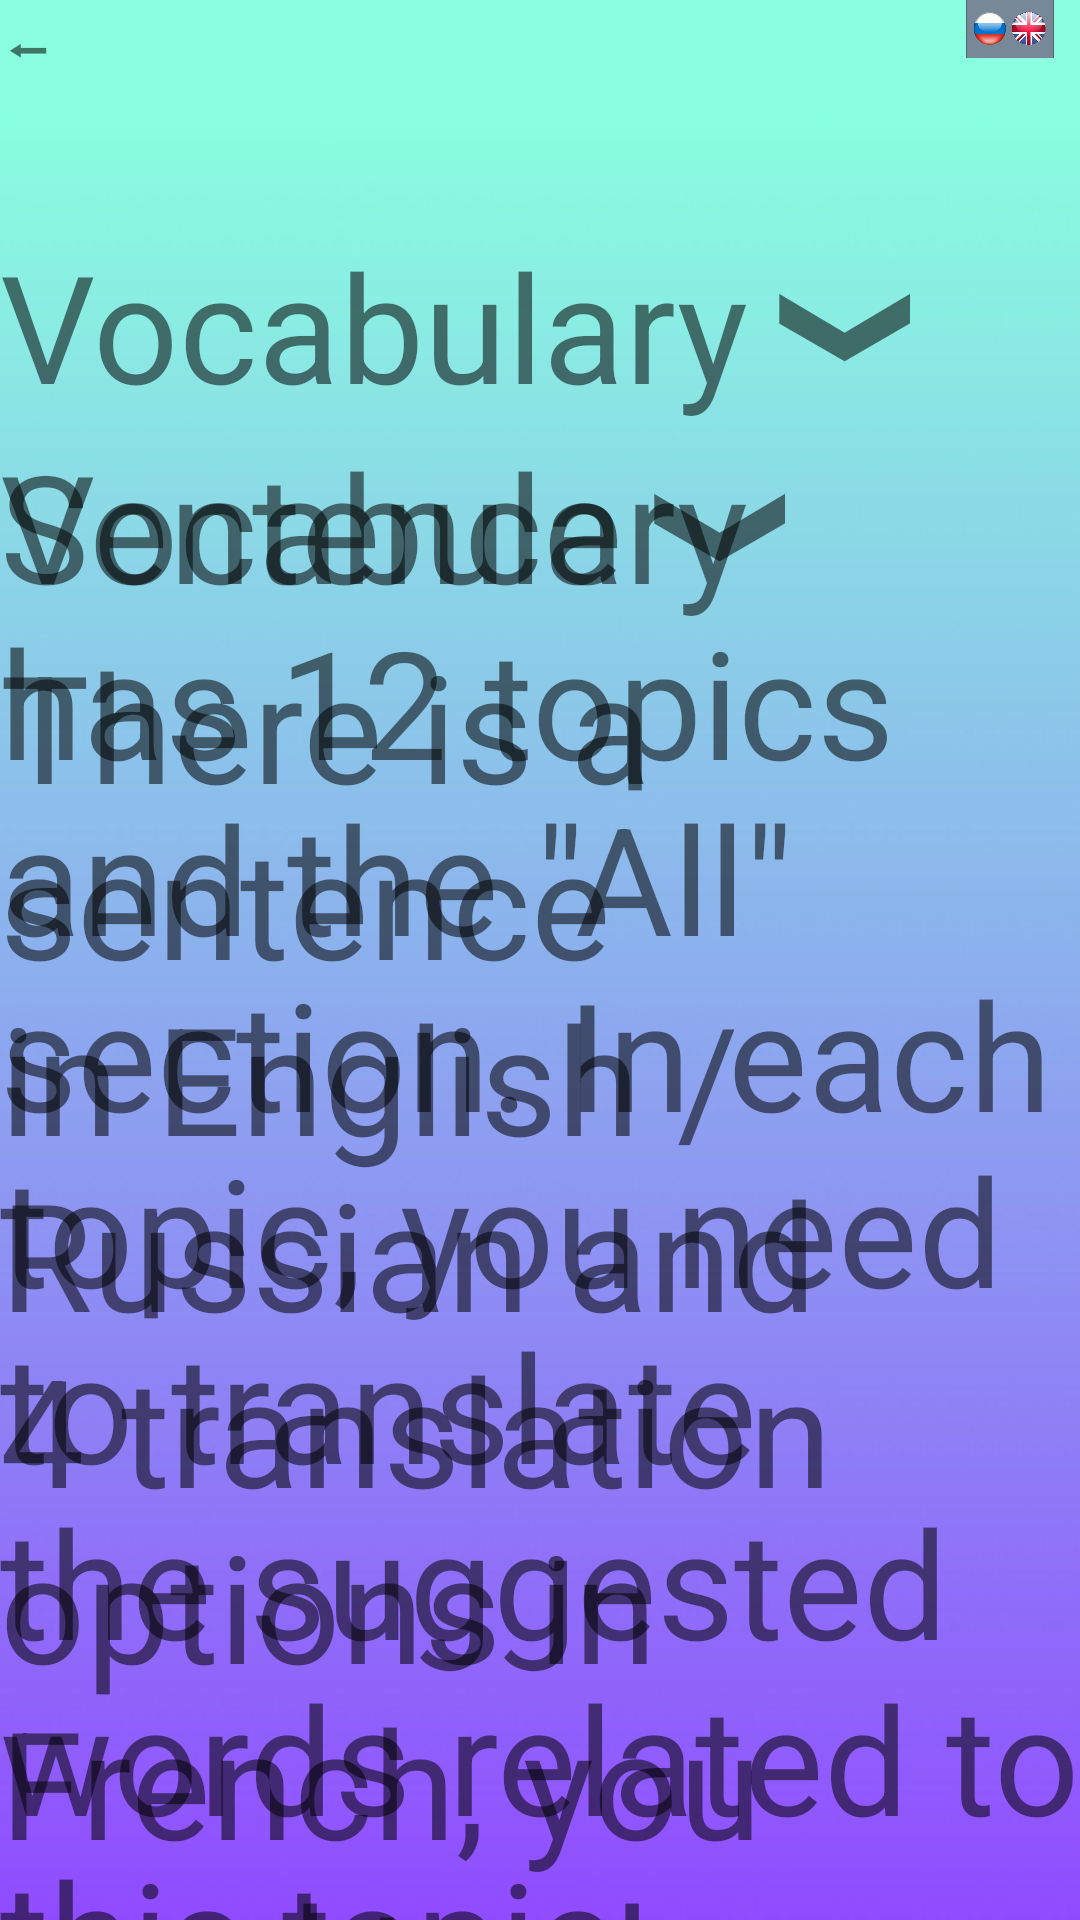

Screen size 1080w x 1920h. Icon name, then its center in pixels as (x=x, y=y):
language: (x=1010, y=29)
